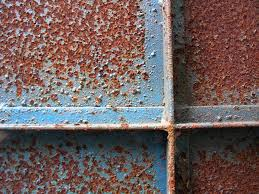rust: (1, 1, 150, 99), (181, 2, 259, 101), (4, 146, 150, 194), (180, 150, 257, 194), (166, 123, 179, 194)
